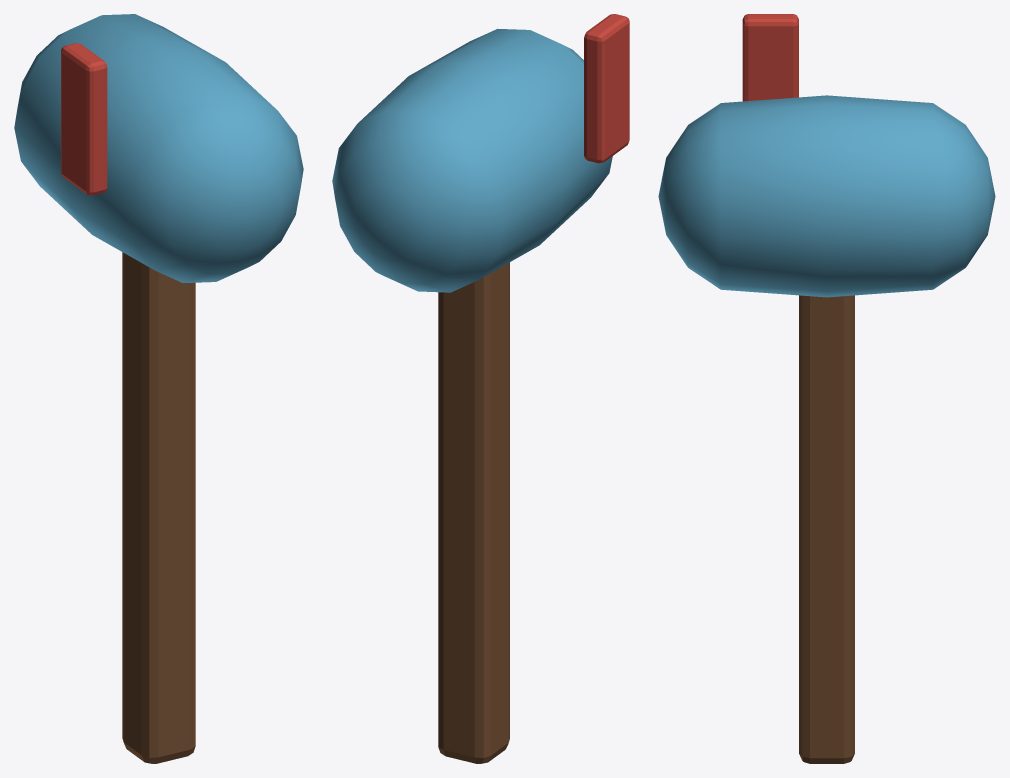
File: mailbox.fbx
The picture shows the model from 3 angles, left to right: view 1: azimuth 30°, elevation 25°; view 2: azimuth 150°, elevation 25°; view 3: azimuth 270°, elevation 25°; orthographic projection. The views are drawn at different scales.
Parts seen in each view (by area): view 1: mailbox; view 2: mailbox; view 3: mailbox.
Part boxes in pixels (x1,y1,x2,y2): mailbox: (14, 14, 303, 763); mailbox: (332, 14, 629, 763); mailbox: (658, 14, 995, 763).
Size of the model in its own units: 0.2 by 0.68 by 0.3.
